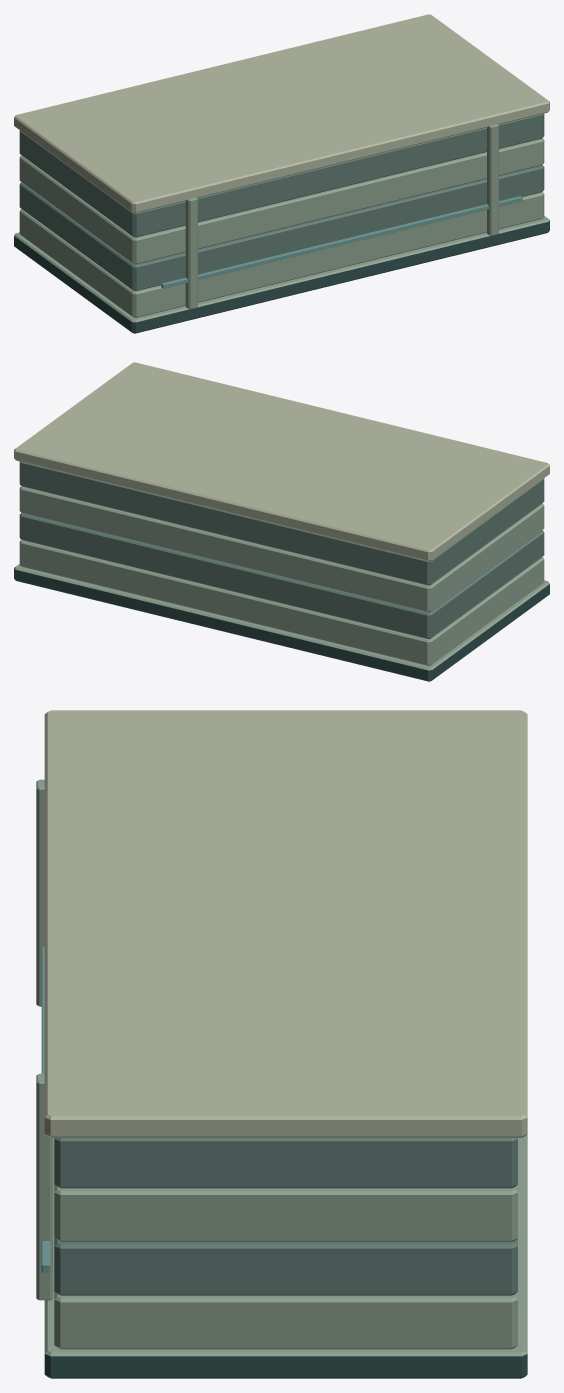
The model's file is platform-wide.glb.
The picture shows the model from 3 angles, top to bottom: view 1: azimuth 30°, elevation 25°; view 2: azimuth 150°, elevation 25°; view 3: azimuth 270°, elevation 25°; orthographic projection. The views are drawn at different scales.
Visible parts, largest first — view 1: platform-wide__body; view 2: platform-wide__body; view 3: platform-wide__body.
Part boxes in pixels (box(x1,y1,x2,y2)): platform-wide__body: box(14, 14, 549, 333); platform-wide__body: box(14, 362, 549, 681); platform-wide__body: box(36, 710, 527, 1378).
Bounding box in the file's own units: 4 × 1.2 × 2.03.
